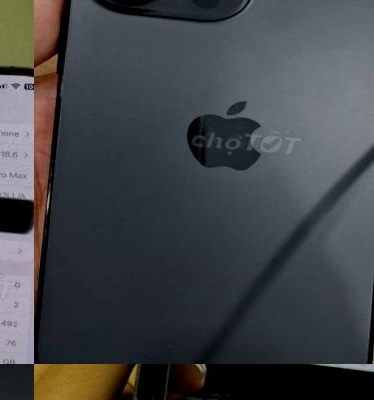screen_defect: (0, 169, 34, 255)
